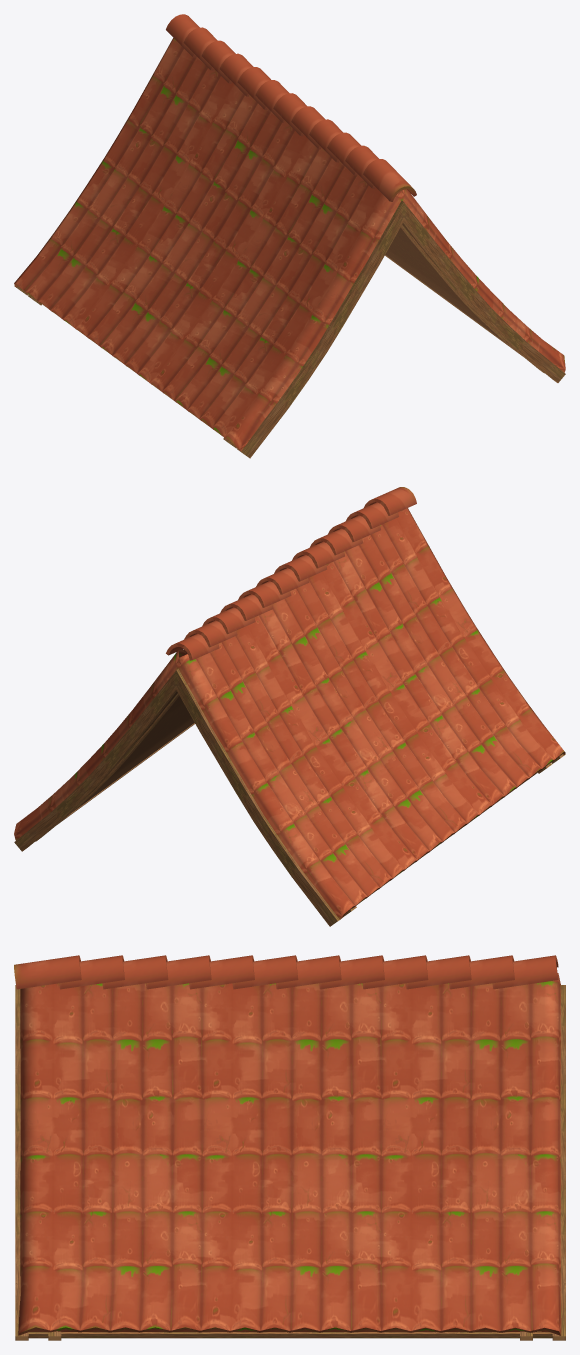
Rendered from Roof_RoundTiles_6x8.glb.
3 views of the same model, one above another, from view 1: azimuth 30°, elevation 25°; view 2: azimuth 150°, elevation 25°; view 3: azimuth 270°, elevation 25° (orthographic). The views are drawn at different scales.
Parts seen in each view (by area): view 1: Roof_RoundTiles_6x8; view 2: Roof_RoundTiles_6x8; view 3: Roof_RoundTiles_6x8.
Boxes of the visible parts, bbox=[...] form: Roof_RoundTiles_6x8: bbox=[14, 14, 565, 458]; Roof_RoundTiles_6x8: bbox=[14, 487, 565, 926]; Roof_RoundTiles_6x8: bbox=[14, 955, 565, 1340].
Size of the model in its own units: 8.25 by 5.67 by 9.68.
Materials: 2 (2 with a texture image).
